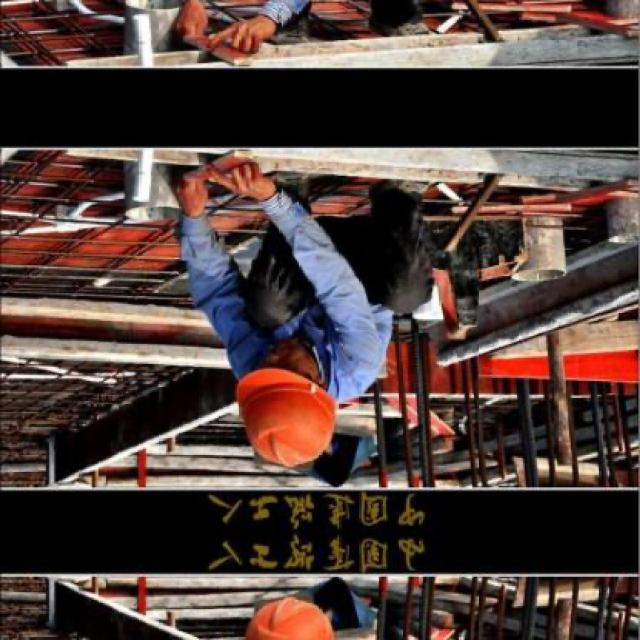con casco: (223, 285, 382, 470)
